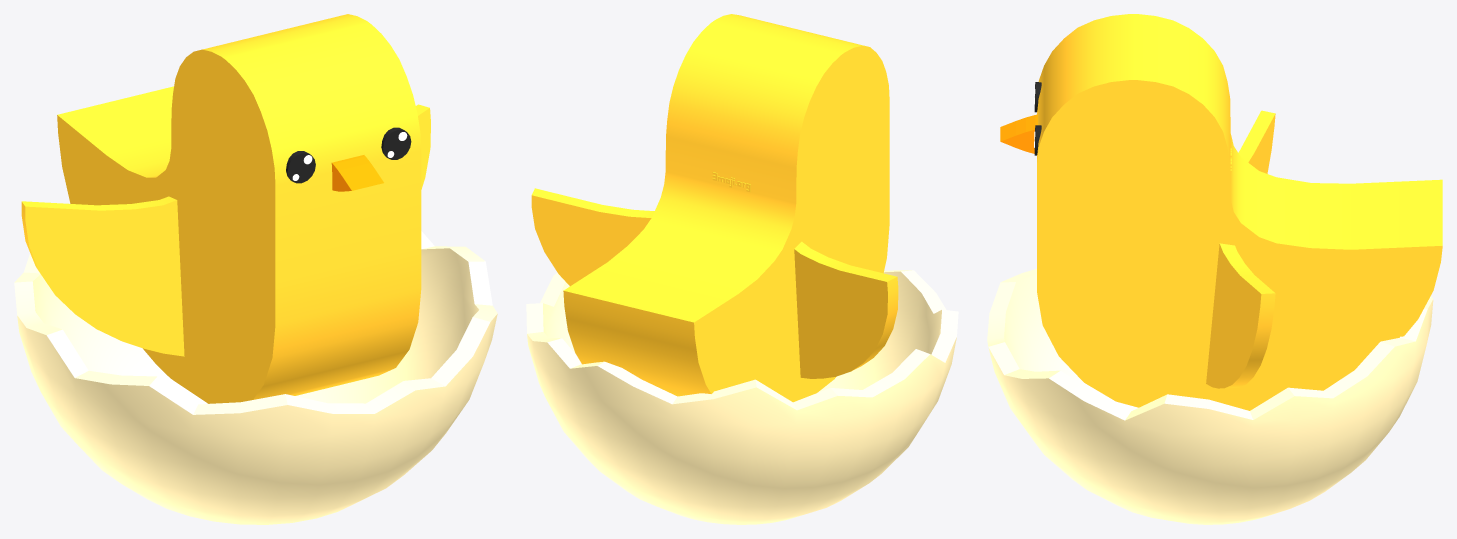
Rendered from hatching_chick.glb.
3 views of the same model, side by side, from view 1: azimuth 30°, elevation 25°; view 2: azimuth 150°, elevation 25°; view 3: azimuth 270°, elevation 25° (orthographic). The views are drawn at different scales.
Parts seen in each view (by area): view 1: Cube.6279; view 2: Cube.6279; view 3: Cube.6279.
Part boxes in pixels (x1,y1,x2,y2): Cube.6279: [14, 14, 497, 524]; Cube.6279: [526, 14, 958, 524]; Cube.6279: [987, 14, 1442, 524].
Bounding box in the file's own units: 2.02 × 2.25 × 2.04.
Materials: 1 (1 with a texture image).
